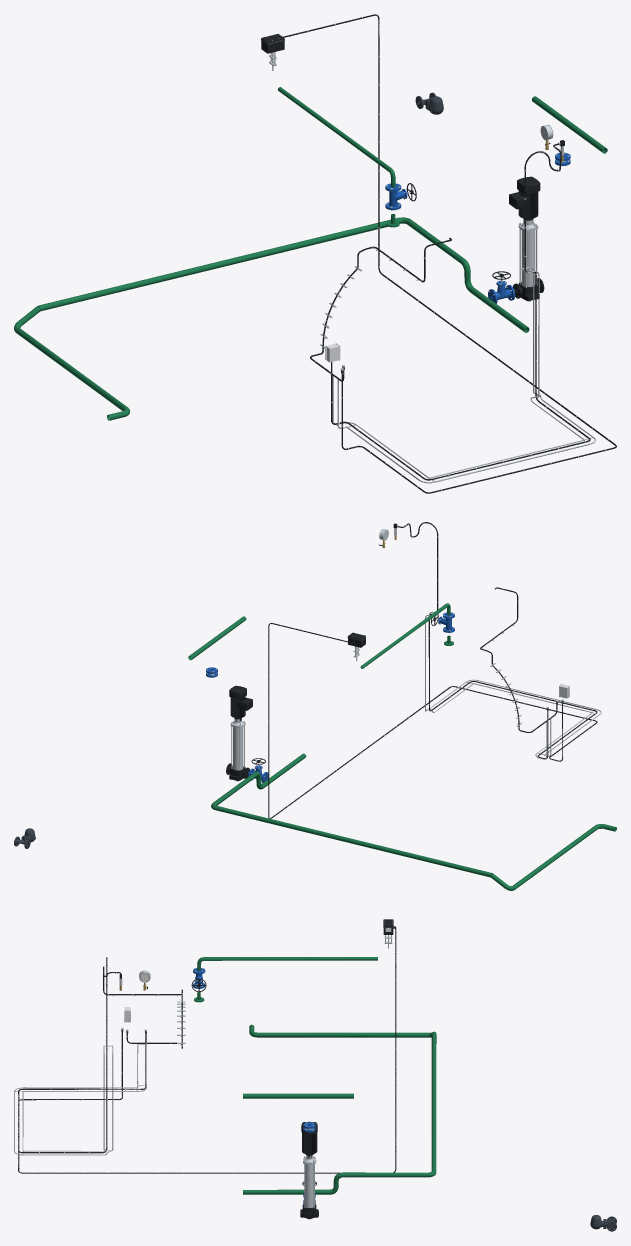
The model's file is s4000-3-C0bYSe55.glb.
The picture shows the model from 3 angles, top to bottom: view 1: azimuth 30°, elevation 25°; view 2: azimuth 150°, elevation 25°; view 3: azimuth 270°, elevation 25°; orthographic projection. The views are drawn at different scales.
Visible parts, largest first — view 1: suction_common / green, cables / zinc, mod_direct_drive_cable / black, wiring_pressure_transmitter / black, deaerator_feed / green, pump_2 CAD solid 15, direct_inlet / green, pump_2 CAD solid 2; view 2: suction_common / green, mod_direct_drive_cable / black, cables / zinc, wiring_pressure_transmitter / black, deaerator_feed / green, pump_2 CAD solid 15; view 3: suction_common / green, cables / zinc, mod_direct_drive_cable / black, deaerator_feed / green, wiring_pressure_transmitter / black, direct_inlet / green, pump_delivery / green, pump_2 CAD solid 2.
Part boxes in pixels (left/top/right/bottom): suction_common / green: left=37, top=217, right=529, bottom=332; cables / zinc: left=332, top=267, right=595, bottom=483; mod_direct_drive_cable / black: left=283, top=14, right=616, bottom=493; wiring_pressure_transmitter / black: left=331, top=143, right=590, bottom=480; deaerator_feed / green: left=14, top=306, right=130, bottom=420; pump_2 CAD solid 15: left=509, top=176, right=540, bottom=219; direct_inlet / green: left=277, top=87, right=395, bottom=187; pump_2 CAD solid 2: left=521, top=230, right=535, bottom=286; suction_common / green: left=211, top=753, right=492, bottom=877; mod_direct_drive_cable / black: left=268, top=623, right=597, bottom=818; cables / zinc: left=425, top=611, right=601, bottom=759; wiring_pressure_transmitter / black: left=398, top=522, right=597, bottom=758; deaerator_feed / green: left=491, top=824, right=616, bottom=890; pump_2 CAD solid 15: left=229, top=685, right=252, bottom=718; suction_common / green: left=243, top=1032, right=436, bottom=1194; cables / zinc: left=14, top=1044, right=146, bottom=1155; mod_direct_drive_cable / black: left=18, top=927, right=396, bottom=1173; deaerator_feed / green: left=249, top=1024, right=435, bottom=1037; wiring_pressure_transmitter / black: left=18, top=957, right=146, bottom=1153; direct_inlet / green: left=197, top=957, right=377, bottom=970; pump_delivery / green: left=243, top=1093, right=353, bottom=1098; pump_2 CAD solid 2: left=305, top=1164, right=314, bottom=1207.
Bounding box in the file's own units: 5.67 × 2.66 × 6.78.
